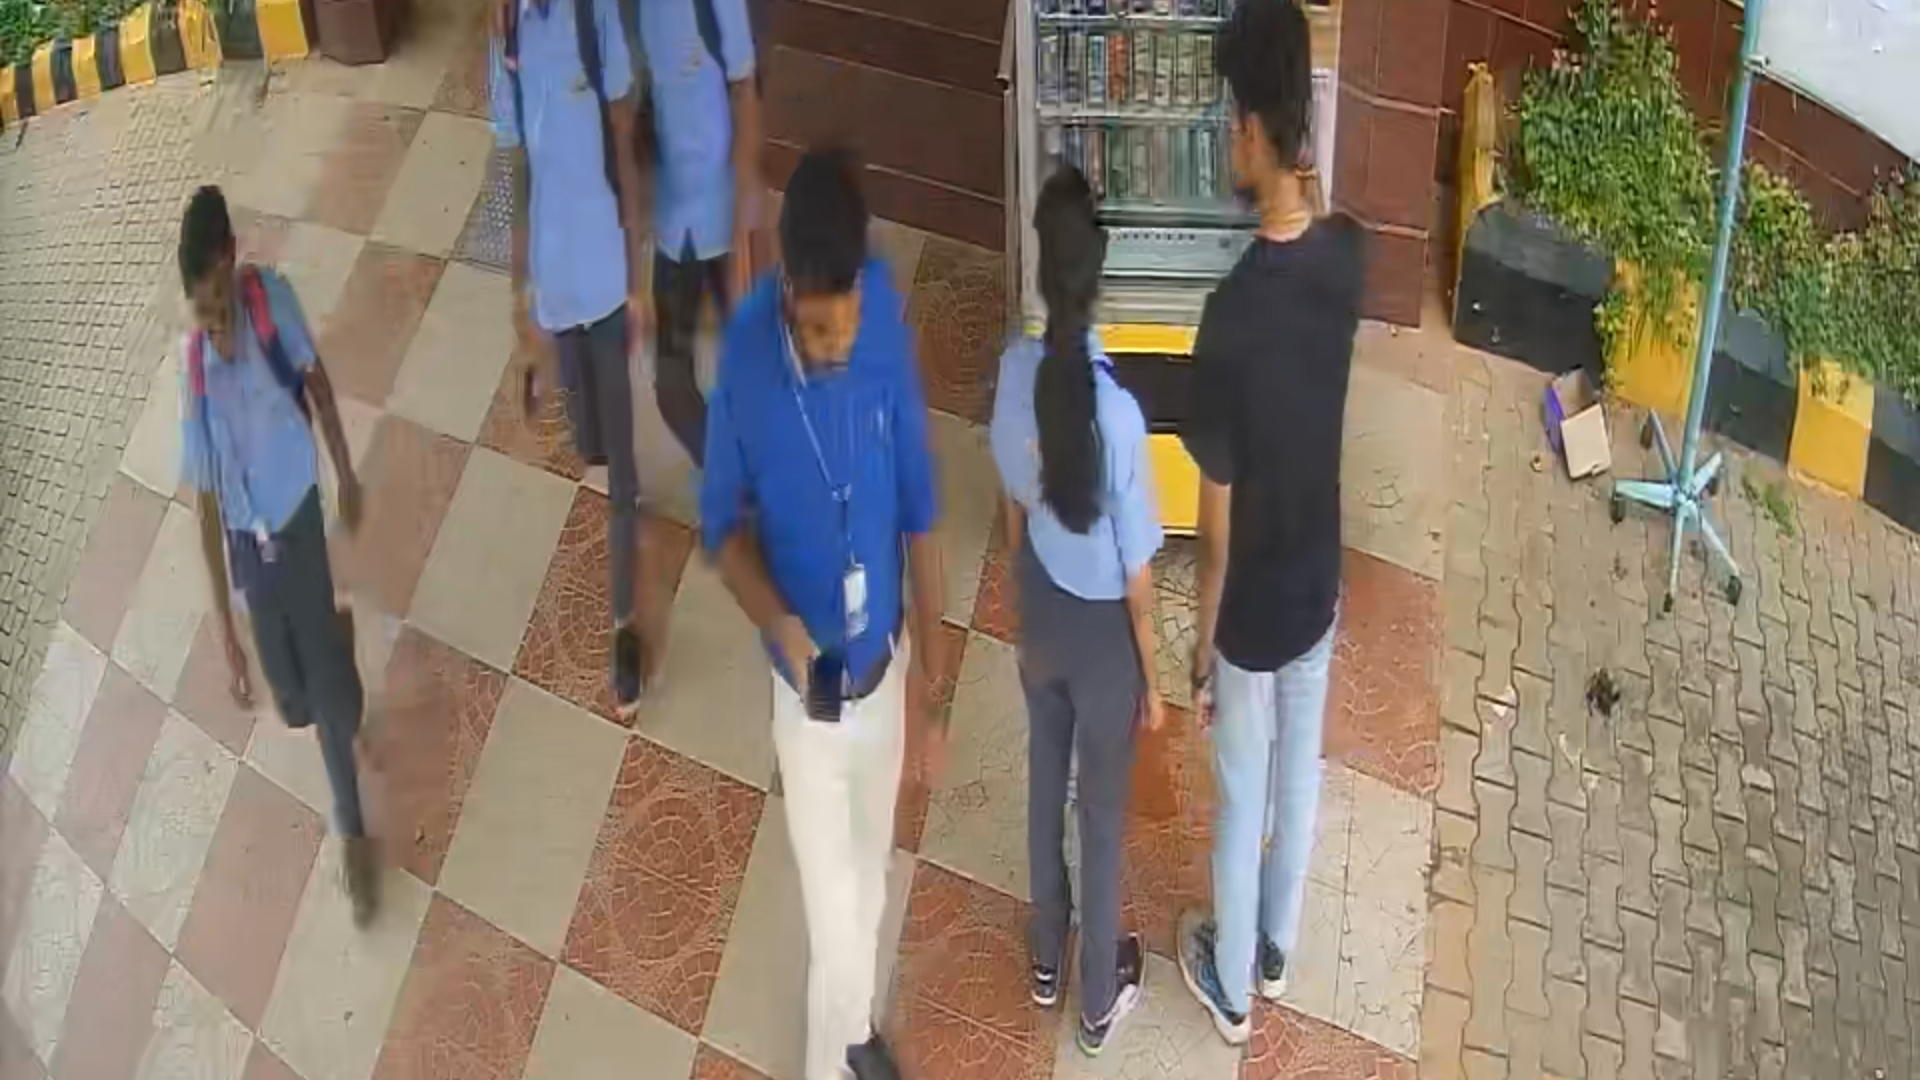not intruder: (711, 161, 945, 1080), (153, 162, 440, 901)
